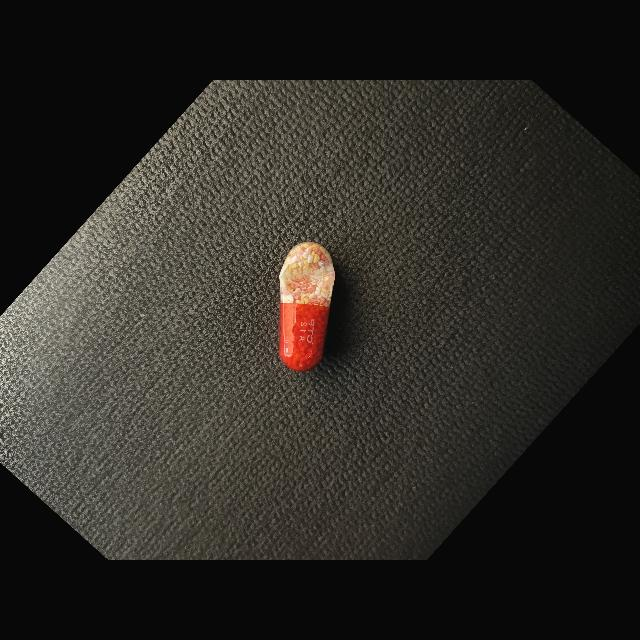Defective Capsule: (279, 242, 335, 371)
